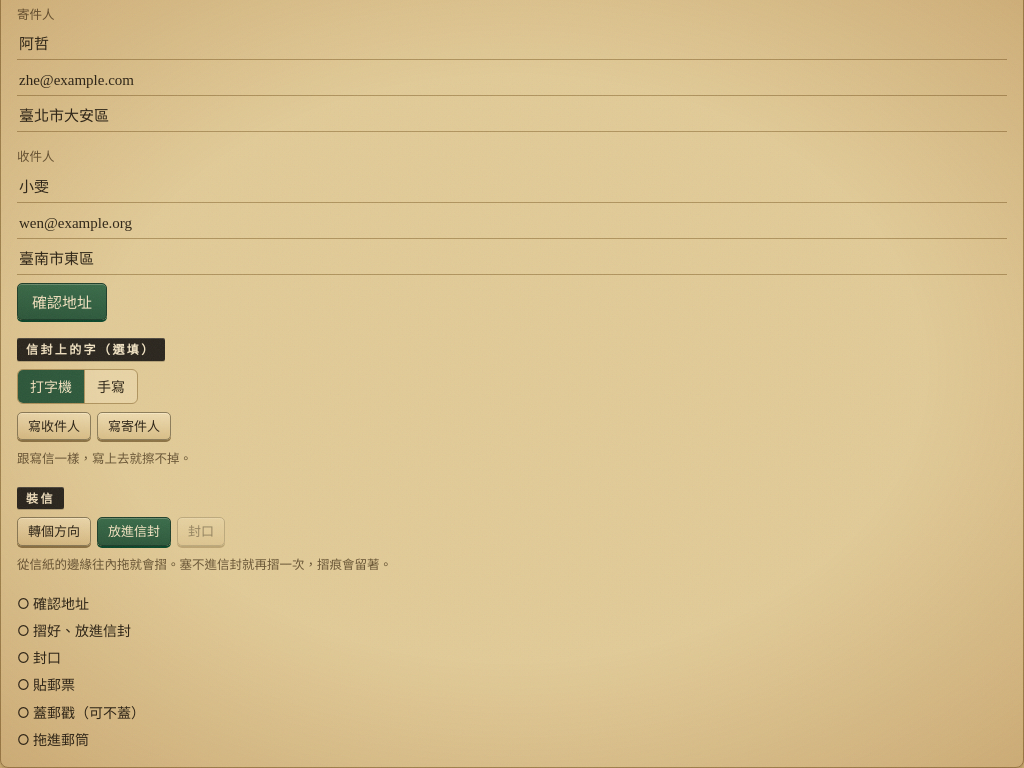
Test: 郵局 › 櫃台：裝不下時顯示後端的 TOO_LONG 訊息，不自己判斷
(page scrolled)
Step 1. Click the button "放進信封" → (134, 531), box x1=97 y1=517 x2=171 y2=546
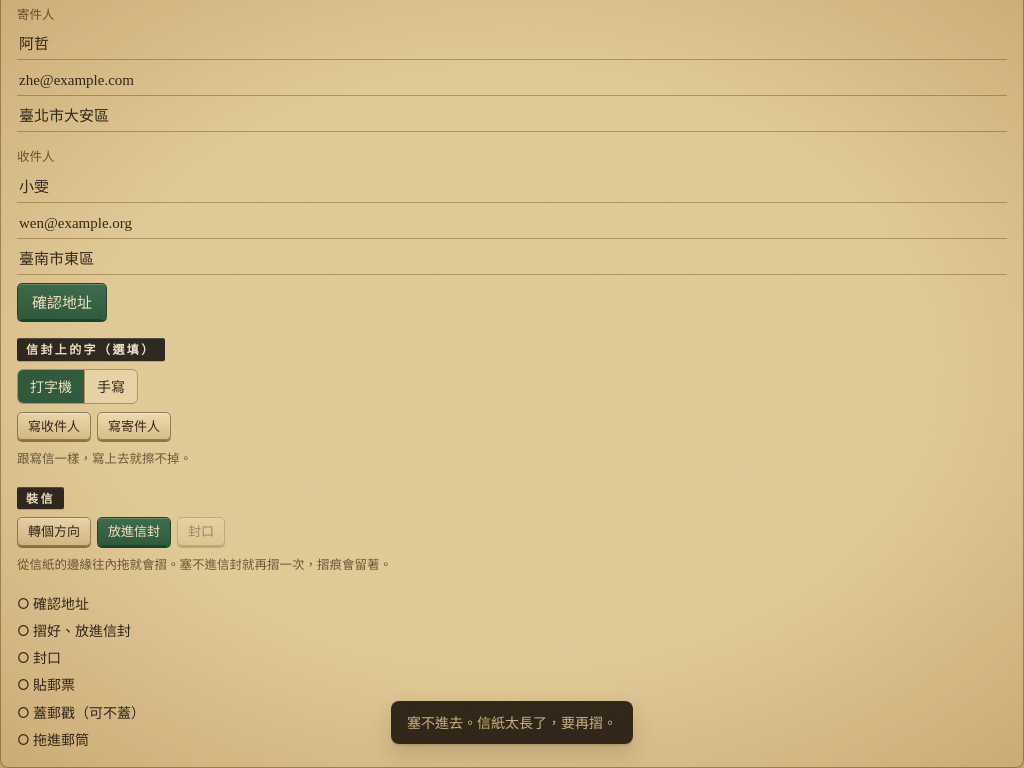
Expected: the message "塞不進去。信紙太長了，要再摺。" is shown, x1=391 y1=701 x2=633 y2=744
